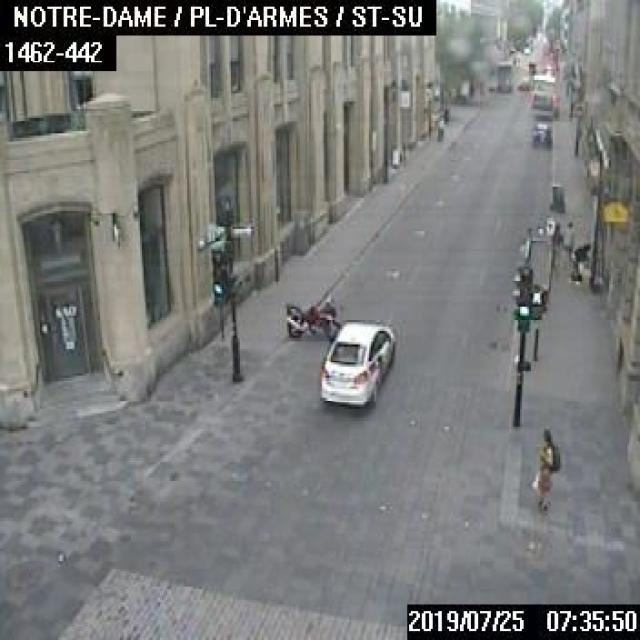bus: (530, 72, 554, 115)
pedestrian: (535, 426, 560, 516), (562, 220, 591, 282), (434, 104, 451, 140), (571, 120, 582, 158)
vehicle: (322, 321, 395, 411), (284, 301, 334, 340), (528, 120, 551, 142)
